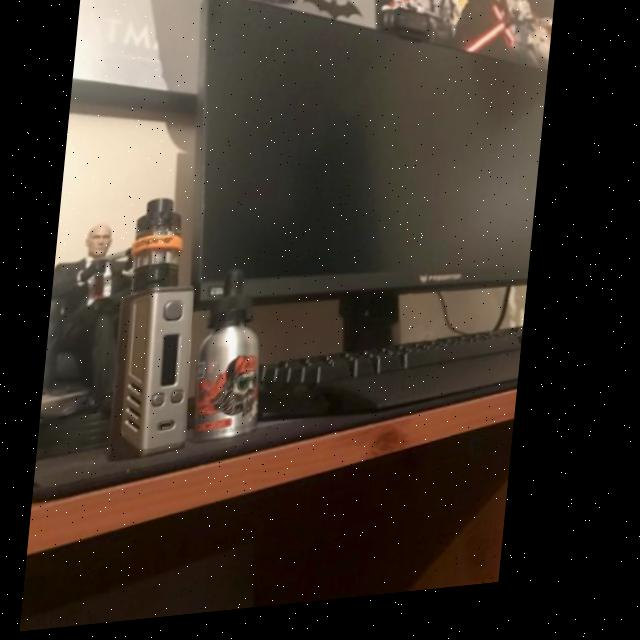vape: (113, 198, 215, 467)
